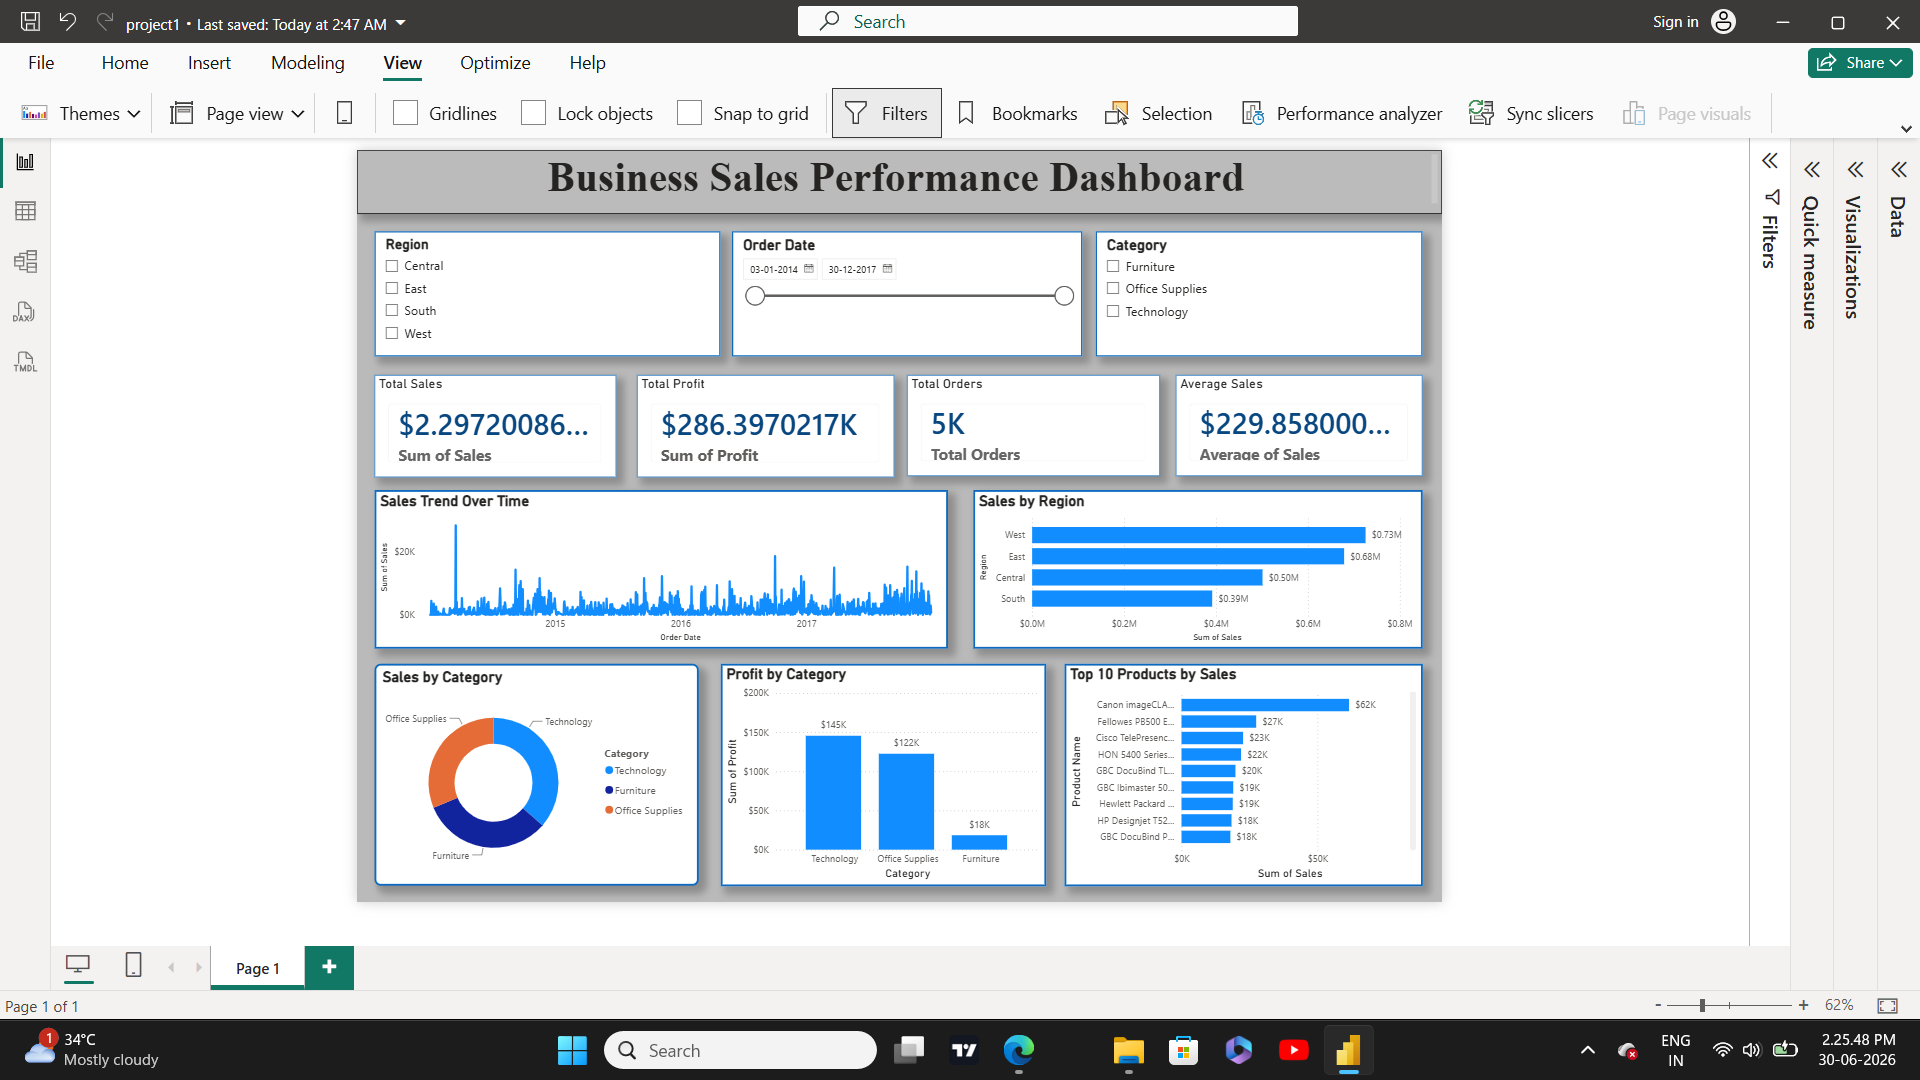

The page's visual inventory and layout, read from the dashboard file:
{"tool":"powerbi","page":{"name":"Page 1","canvas":[1400,970],"ordinal":0},"visuals":[{"type":"cardVisual","title":"Total Sales","fields":{"Data":["Sum(in (2).Sales)"]},"box":[23.3,290,311.7,131.7],"z":0},{"type":"cardVisual","title":"Total Profit","fields":{"Data":["Sum(in (2).Profit)"]},"box":[361.7,290,331.7,131.7],"z":1000},{"type":"cardVisual","title":"Average Sales","fields":{"Data":["Avg(in (2).Sales)"]},"box":[1056.7,290,318.3,130],"z":2000},{"type":"cardVisual","title":"Total Orders","fields":{"Data":["in (2).Total Orders"]},"box":[710,290,326.7,130],"z":3000},{"type":"lineChart","title":"Sales Trend Over Time","fields":{"Y":["Sum(in (2).Sales)"],"Category":["in (2).Order Date"]},"box":[23.3,438.3,740,205],"z":4000},{"type":"donutChart","title":"Sales by Category","fields":{"Category":["in (2).Category"],"Y":["Sum(in (2).Sales)"]},"box":[23.3,663.3,418.3,286.7],"z":5000},{"type":"clusteredColumnChart","title":"Profit by Category","fields":{"Category":["in (2).Category"],"Y":["Sum(in (2).Profit)"]},"box":[470,662.5,420,287.5],"z":6000},{"type":"barChart","title":"Sales by Region","fields":{"Category":["in (2).Region"],"Y":["Sum(in (2).Sales)"]},"box":[795,438.3,580,205],"z":7000},{"type":"barChart","title":"Top 10 Products by Sales","fields":{"Category":["in (2).Product Name"],"Y":["Sum(in (2).Sales)"]},"box":[912.5,662.5,462.5,287.5],"z":8000},{"type":"slicer","fields":{"Values":["in (2).Order Date"]},"box":[483.3,105,451.7,161.7],"z":9000},{"type":"slicer","fields":{"Values":["in (2).Category"]},"box":[953.3,105,421.7,161.7],"z":10000},{"type":"slicer","fields":{"Values":["in (2).Region"]},"box":[23.3,105,446.7,161.7],"z":11000},{"type":"textbox","box":[0,0,1400.3,82.1],"z":12000}]}

Visuals, with their boxes on the page's 1400x970 design canvas (x1, y1, x2, y2). These are canvas units, not pixel positions in the 1920x1080 screenshot, which may show the page scaled, cropped or inside an application window:
"Total Sales" cardVisual: <bbox>23, 290, 335, 422</bbox>
"Total Profit" cardVisual: <bbox>362, 290, 693, 422</bbox>
"Average Sales" cardVisual: <bbox>1057, 290, 1375, 420</bbox>
"Total Orders" cardVisual: <bbox>710, 290, 1037, 420</bbox>
"Sales Trend Over Time" lineChart: <bbox>23, 438, 763, 643</bbox>
"Sales by Category" donutChart: <bbox>23, 663, 442, 950</bbox>
"Profit by Category" clusteredColumnChart: <bbox>470, 662, 890, 950</bbox>
"Sales by Region" barChart: <bbox>795, 438, 1375, 643</bbox>
"Top 10 Products by Sales" barChart: <bbox>912, 662, 1375, 950</bbox>
slicer - in (2).Order Date: <bbox>483, 105, 935, 267</bbox>
slicer - in (2).Category: <bbox>953, 105, 1375, 267</bbox>
slicer - in (2).Region: <bbox>23, 105, 470, 267</bbox>
textbox: <bbox>0, 0, 1400, 82</bbox>
